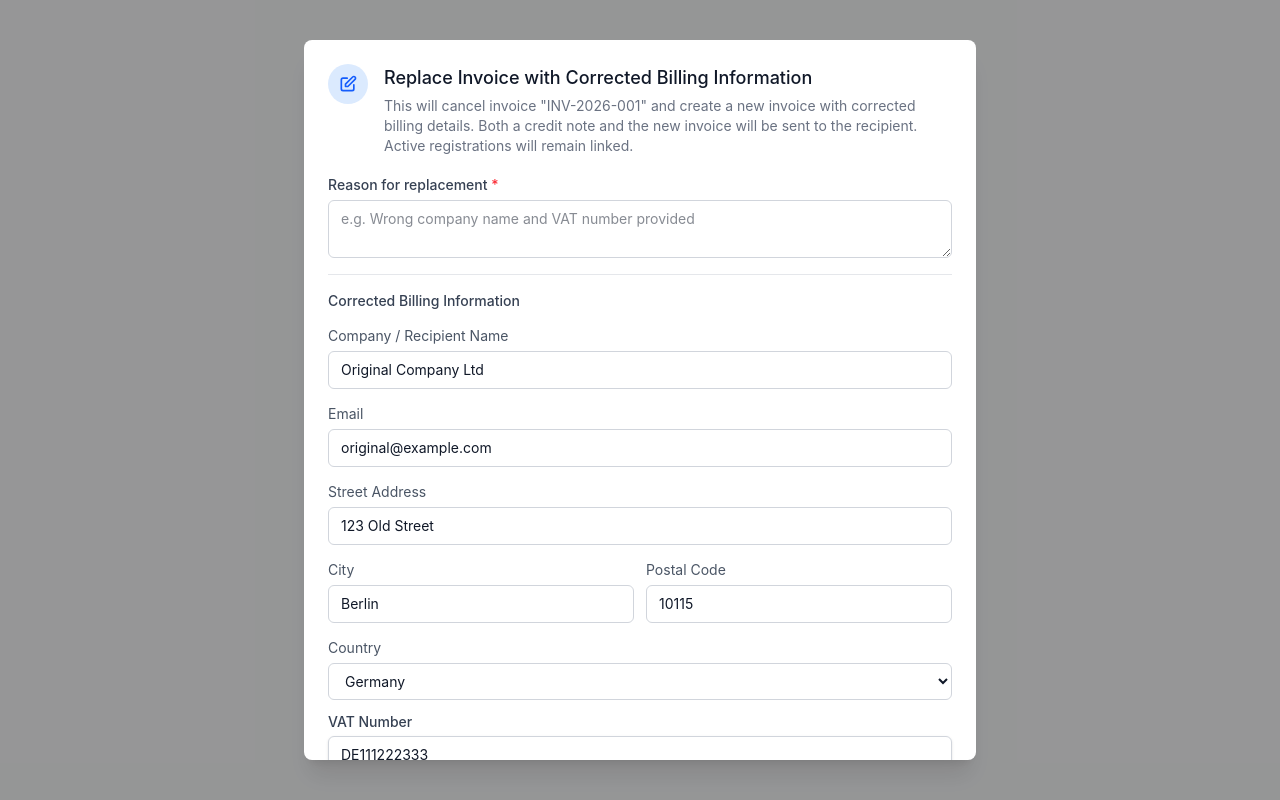
ReplaceInvoiceDialog › should disable confirm button when no fields have changed
Type "Test reason" into the text box with placeholder "e.g. Wrong company name and VAT number provided" at (640, 229), box [328, 200, 952, 258]
(page scrolled)
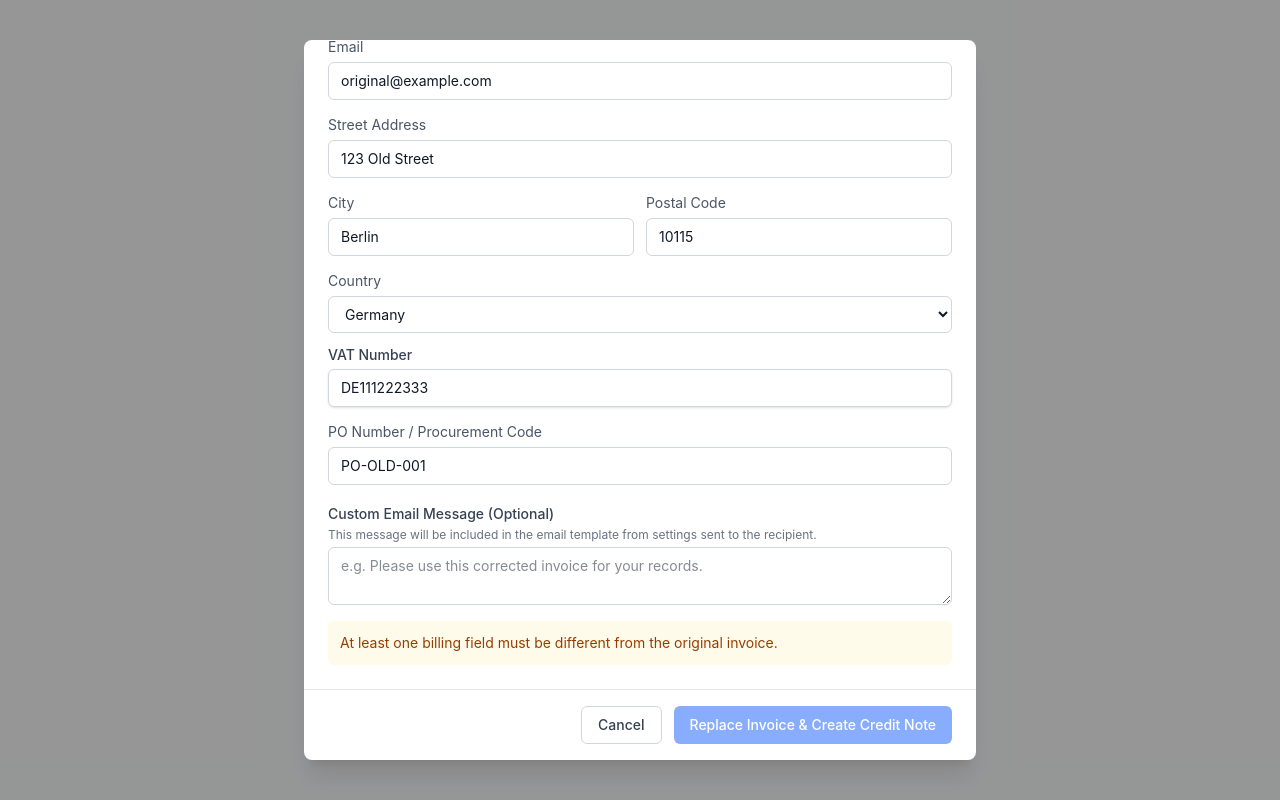
Check: the button "Replace Invoice & Create Credit Note" is disabled, box [674, 706, 952, 744]
